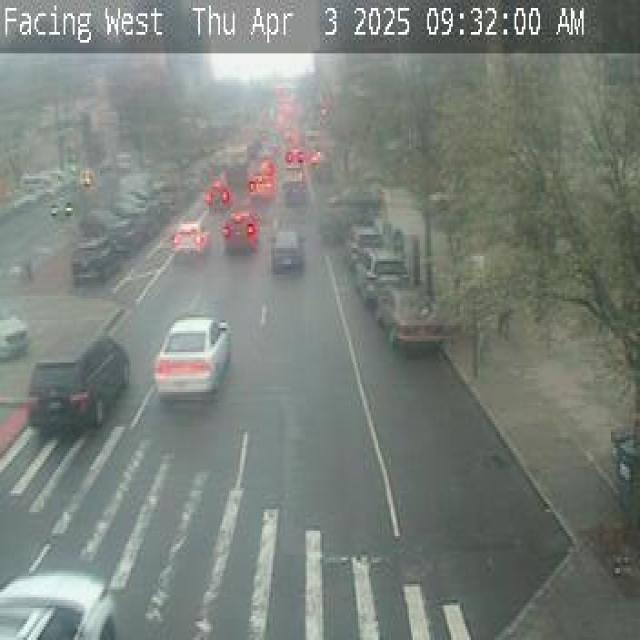open parking: (382, 318, 556, 519)
parkedCars: (336, 191, 471, 358)
